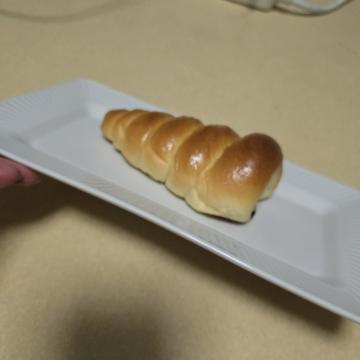cream horn: (87, 60, 241, 277)
